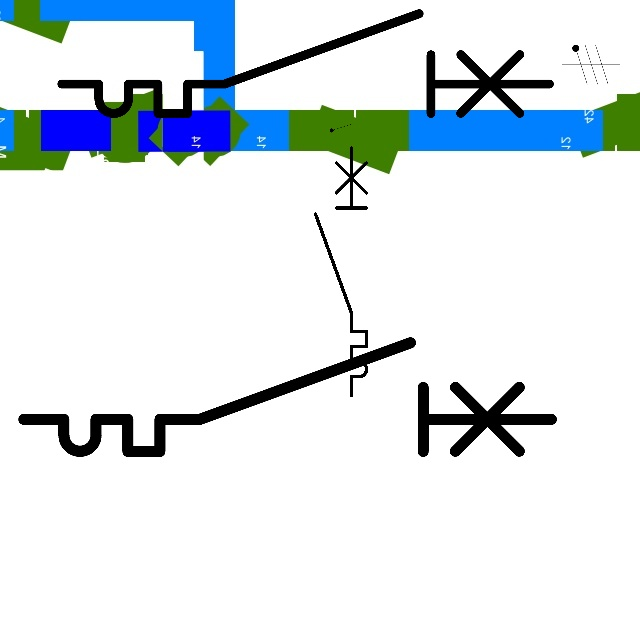interruptor_termomagnetico: (10, 329, 565, 465), (49, 1, 562, 126), (309, 141, 373, 402)
